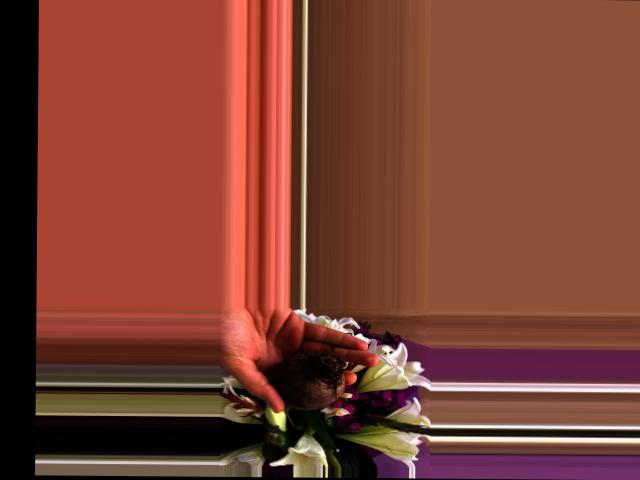beet: (271, 351, 346, 428)
